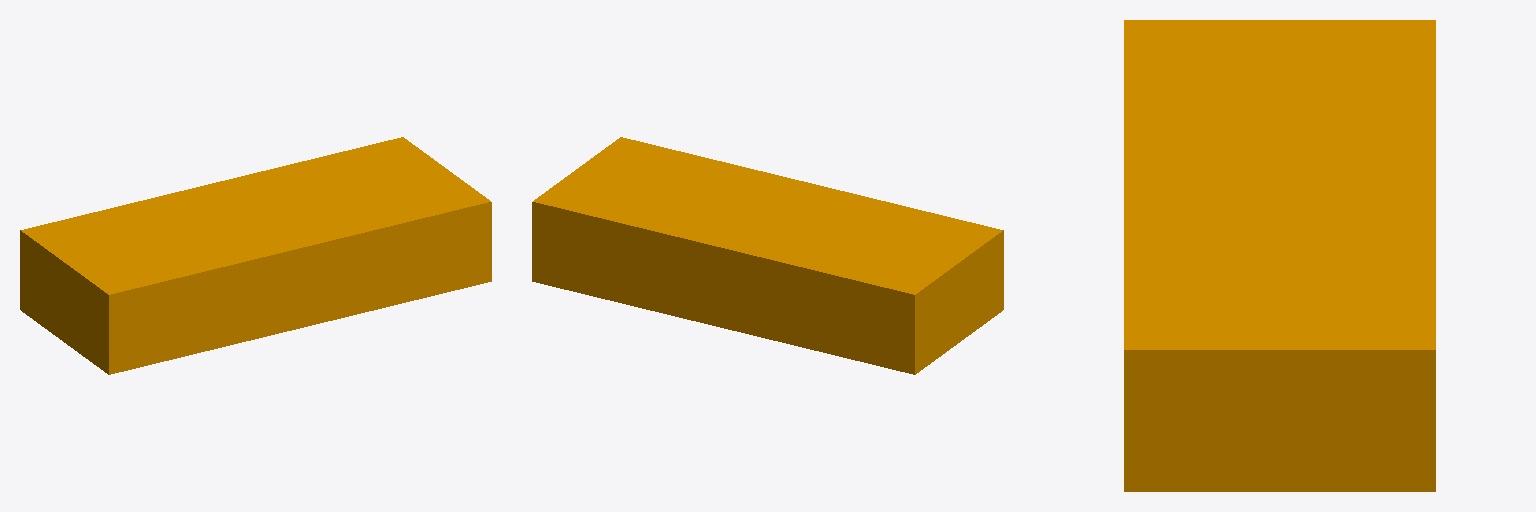
The robot description file, URDF, robot "mycar":
<!-- 
    创建一个机器人模型(盒状即可)，显示在 Gazebo 中 
-->

<robot name="mycar">
    <link name="base_link">
        <visual>
            <geometry>
                <box size="0.5 0.2 0.1" />
            </geometry>
            <origin xyz="0.0 0.0 0.0" rpy="0.0 0.0 0.0" />
            <!-- <material name="yellow">
                <color rgba="0.5 0.3 0.0 1" />
            </material> -->
        </visual>

        <!-- 下面的标签为在gazebo中必须添加的，而在rviz中非必须 -->
        <!-- 1. 碰撞参数 -->
        <collision>
            <geometry>
                <box size="0.5 0.2 0.1" />
            </geometry>
            <origin xyz="0.0 0.0 0.0" rpy="0.0 0.0 0.0" />
        </collision>
        <!-- 2. 惯性矩阵 -->
        <inertial>
            <origin xyz="0 0 0" />
            <mass value="6" />
            <inertia ixx="1" ixy="0" ixz="0" iyy="1" iyz="0" izz="1" />
        </inertial>
    </link>
    
    <!-- gazebo 有自己的颜色设置标签，注意区分大小写 -->
    <gazebo reference="base_link">
        <material>Gazebo/Red</material>
    </gazebo>

</robot>

--- Render facts (derived) ---
3 views of the same robot in one strip: view 1: azimuth 30°, elevation 25°; view 2: azimuth 150°, elevation 25°; view 3: azimuth 270°, elevation 25° (orthographic).
Robot: mycar — 1 links, 0 joints (none); root link base_link; default pose: all joints at 0.
Links seen in each view (by area): view 1: base_link; view 2: base_link; view 3: base_link.
Boxes of the visible links, x1=… form: base_link: x1=20, y1=137, x2=491, y2=374; base_link: x1=532, y1=137, x2=1003, y2=374; base_link: x1=1124, y1=20, x2=1435, y2=491.
Bounding box of the posed robot: 0.5 × 0.2 × 0.1 m (x, y, z).
Geometry: primitives only (box / cylinder / sphere), no mesh files.
